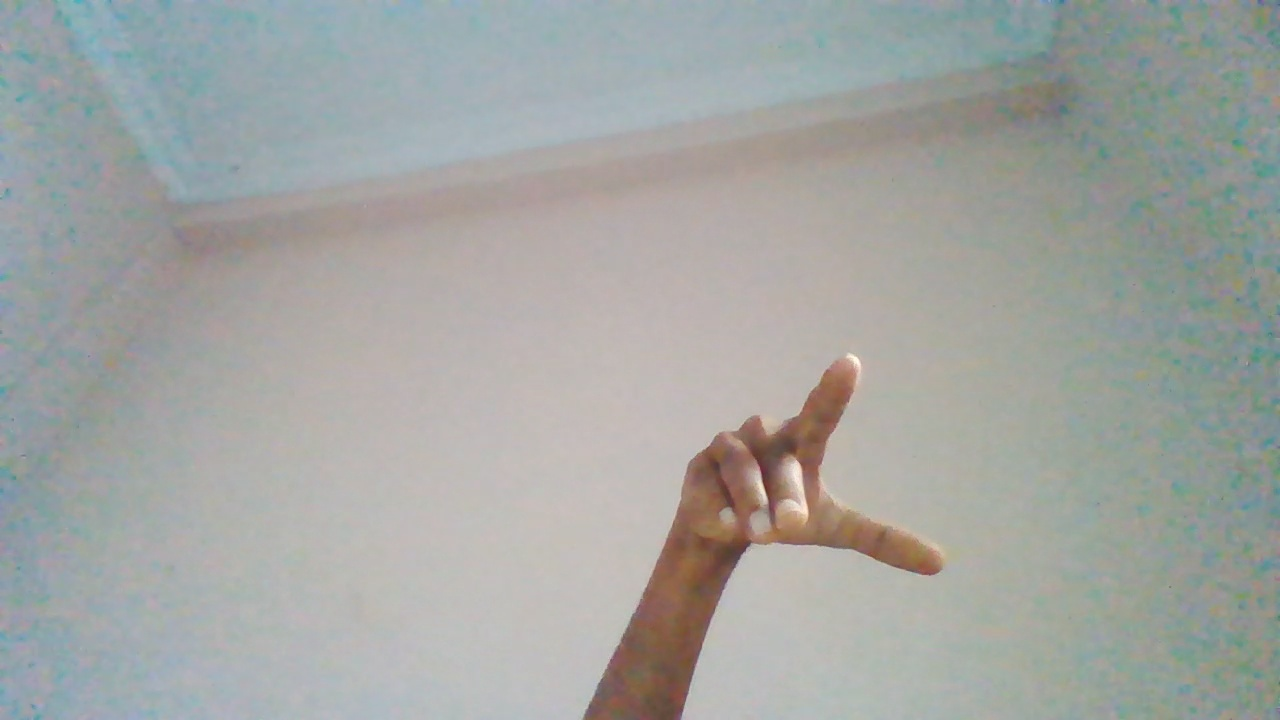ke: (667, 362, 932, 720)
